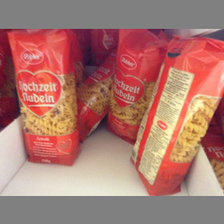pasta: (132, 35, 224, 197), (7, 31, 81, 167), (107, 28, 163, 143)
